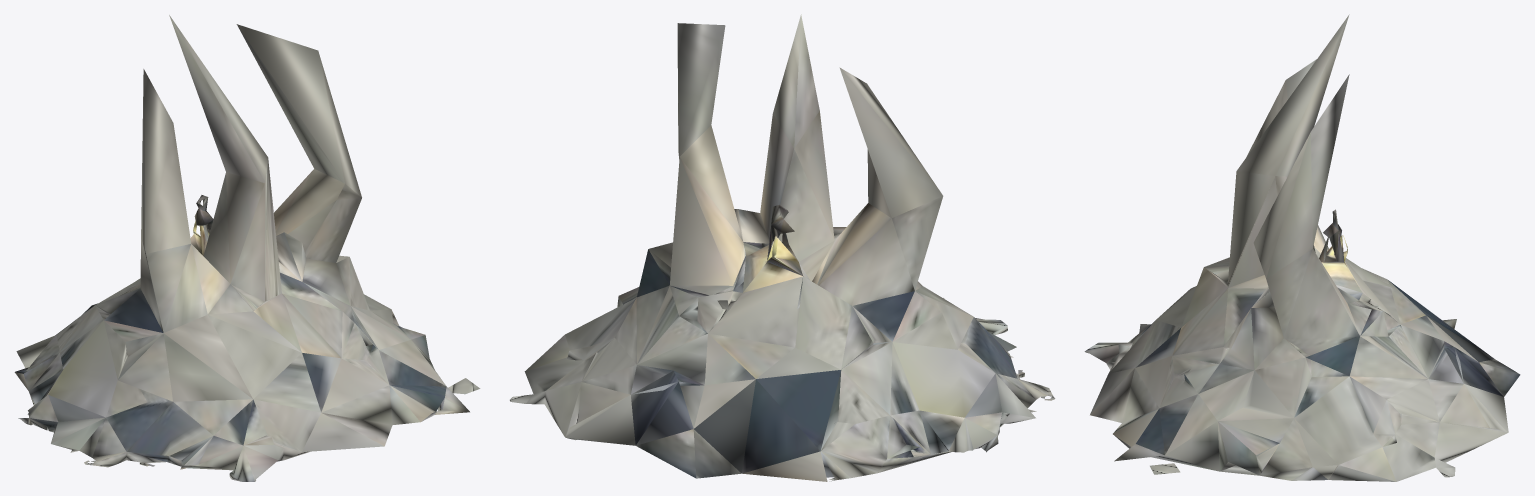
Rendered from repere-griffe-loin.glb.
3 views of the same model, side by side, from view 1: azimuth 30°, elevation 25°; view 2: azimuth 150°, elevation 25°; view 3: azimuth 270°, elevation 25° (orthographic). The views are drawn at different scales.
Parts seen in each view (by area): view 1: repere-griffe-loin; view 2: repere-griffe-loin; view 3: repere-griffe-loin.
Part boxes in pixels (<box>): repere-griffe-loin: <box>14,15,480,481</box>; repere-griffe-loin: <box>509,14,1055,481</box>; repere-griffe-loin: <box>1084,14,1520,481</box>.
Size of the model in its own units: 1.75 by 1.55 by 1.7.
1 material, 1 textured.
